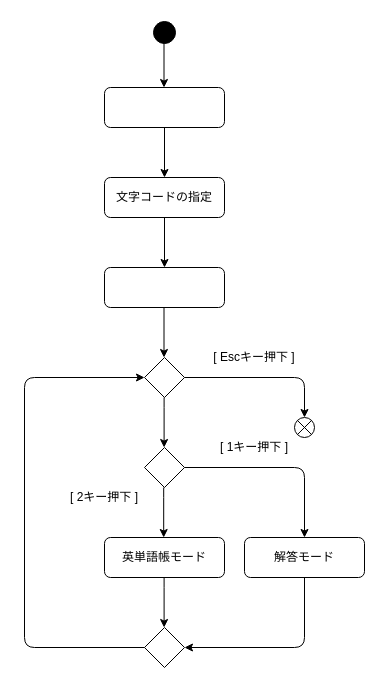
Image size: 382x685. Some labels were removed from this diagram. Each missing label, with the centre of its shape:
JSONファイル 読み込み: pixel 164 287
バッチファイル起動: pixel 164 107
